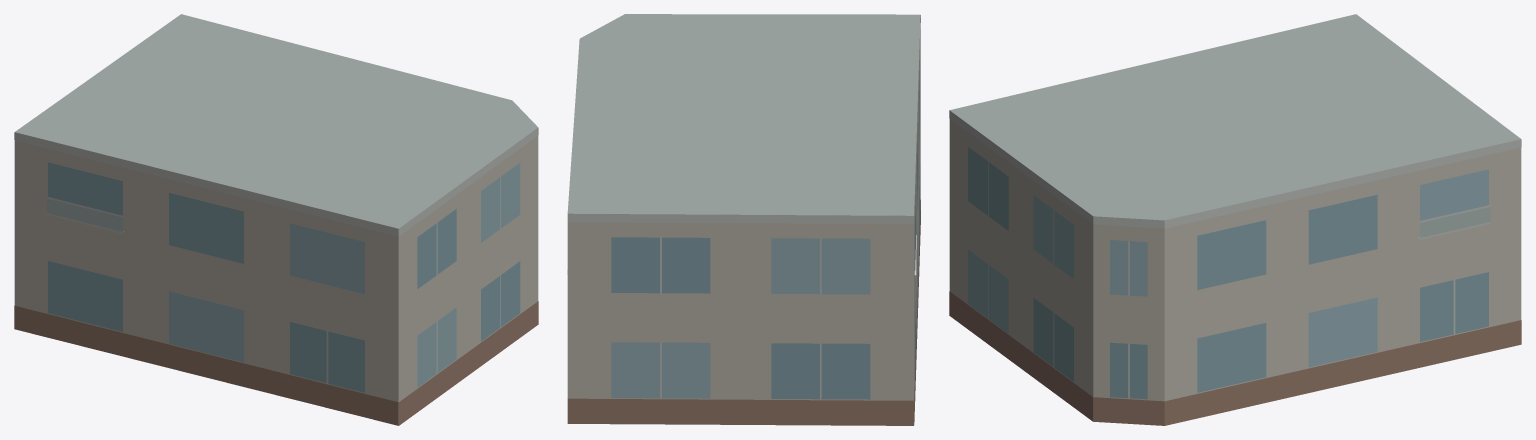
File: survey-upis-32712014.glb
3 views of the same model, side by side, from view 1: azimuth 30°, elevation 25°; view 2: azimuth 150°, elevation 25°; view 3: azimuth 270°, elevation 25° (orthographic). The views are drawn at different scales.
Parts seen in each view (by area): view 1: survey-upis-32712014.tmp; view 2: survey-upis-32712014.tmp; view 3: survey-upis-32712014.tmp.
Boxes of the visible parts, x1,y1,x2,y2 form: survey-upis-32712014.tmp: (14,14,538,425); survey-upis-32712014.tmp: (567,14,920,425); survey-upis-32712014.tmp: (949,14,1521,425).
Bounding box in the file's own units: 13.16 × 6.1 × 15.4.
